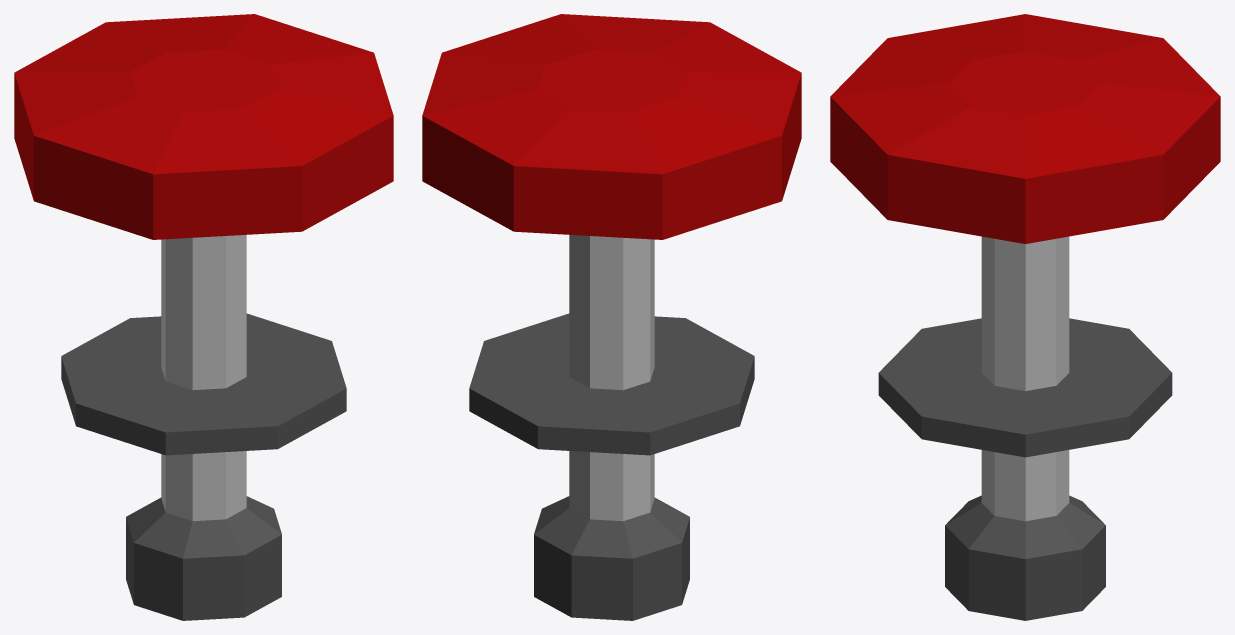
File: Chair.fbx
The picture shows the model from 3 angles, left to right: view 1: azimuth 30°, elevation 25°; view 2: azimuth 150°, elevation 25°; view 3: azimuth 270°, elevation 25°; orthographic projection.
Visible parts, largest first — view 1: Chair; view 2: Chair; view 3: Chair.
Boxes of the visible parts, x1=… form: Chair: x1=14, y1=14, x2=393, y2=620; Chair: x1=422, y1=14, x2=801, y2=620; Chair: x1=830, y1=14, x2=1220, y2=620.
Size of the model in its own units: 63.54 by 90.52 by 63.54.
